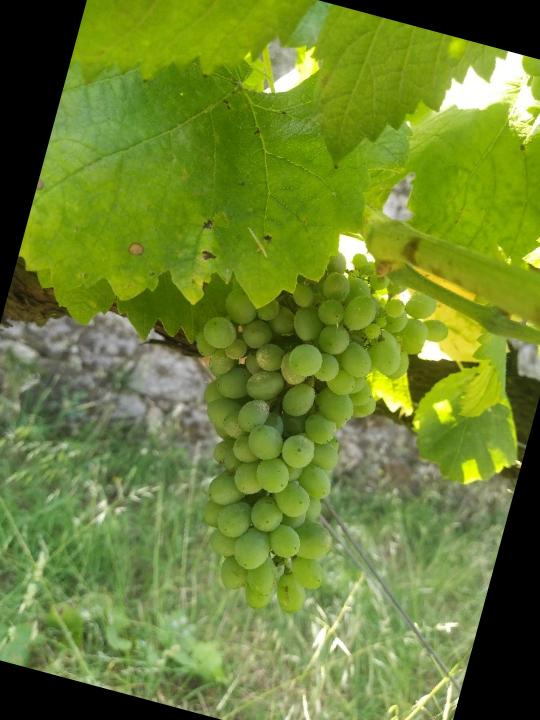grape: (131, 216, 469, 647)
